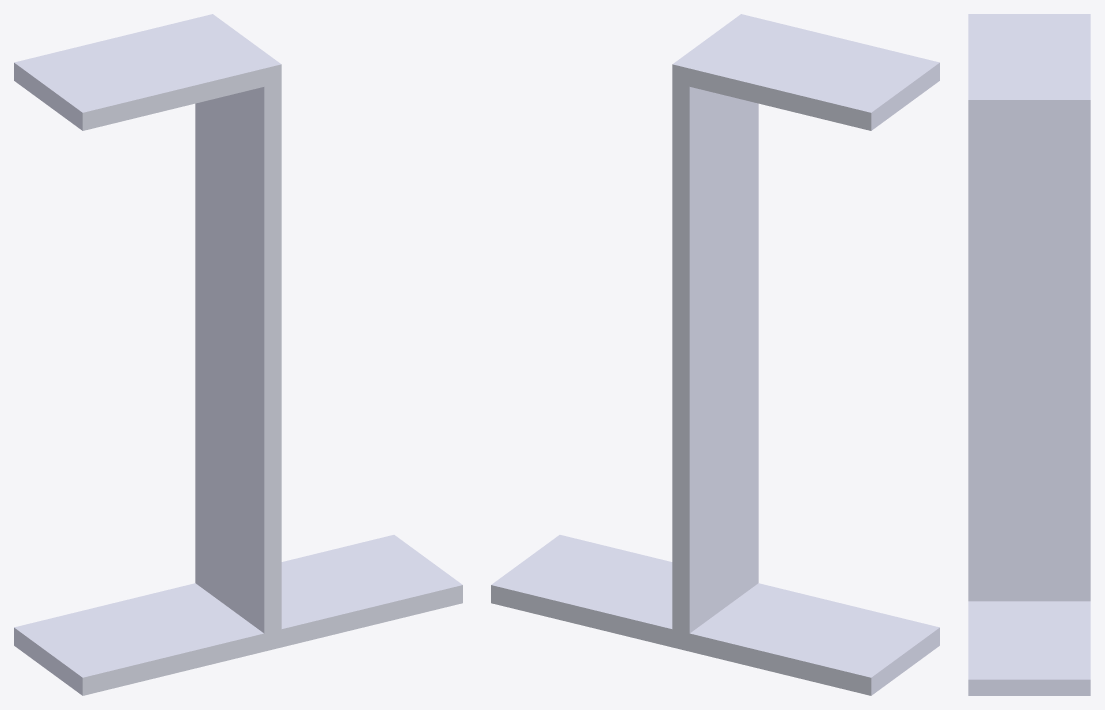
Rendered from 349da957-1320-49cc-9f41-1f539efd0e69.glb.
3 views of the same model, side by side, from view 1: azimuth 30°, elevation 25°; view 2: azimuth 150°, elevation 25°; view 3: azimuth 270°, elevation 25° (orthographic). The views are drawn at different scales.
Parts seen in each view (by area): view 1: 1_AlphaProta_Grey; view 2: 1_AlphaProta_Grey; view 3: 1_AlphaProta_Grey.
Boxes of the visible parts, x1,y1,x2,y2 form: 1_AlphaProta_Grey: (14,14,462,695); 1_AlphaProta_Grey: (491,14,939,695); 1_AlphaProta_Grey: (968,14,1090,695).
Size of what is drawn, in the model's own units: 0.1436 by 0.2105 by 0.045.
Materials: 2 (2 with a texture image).
